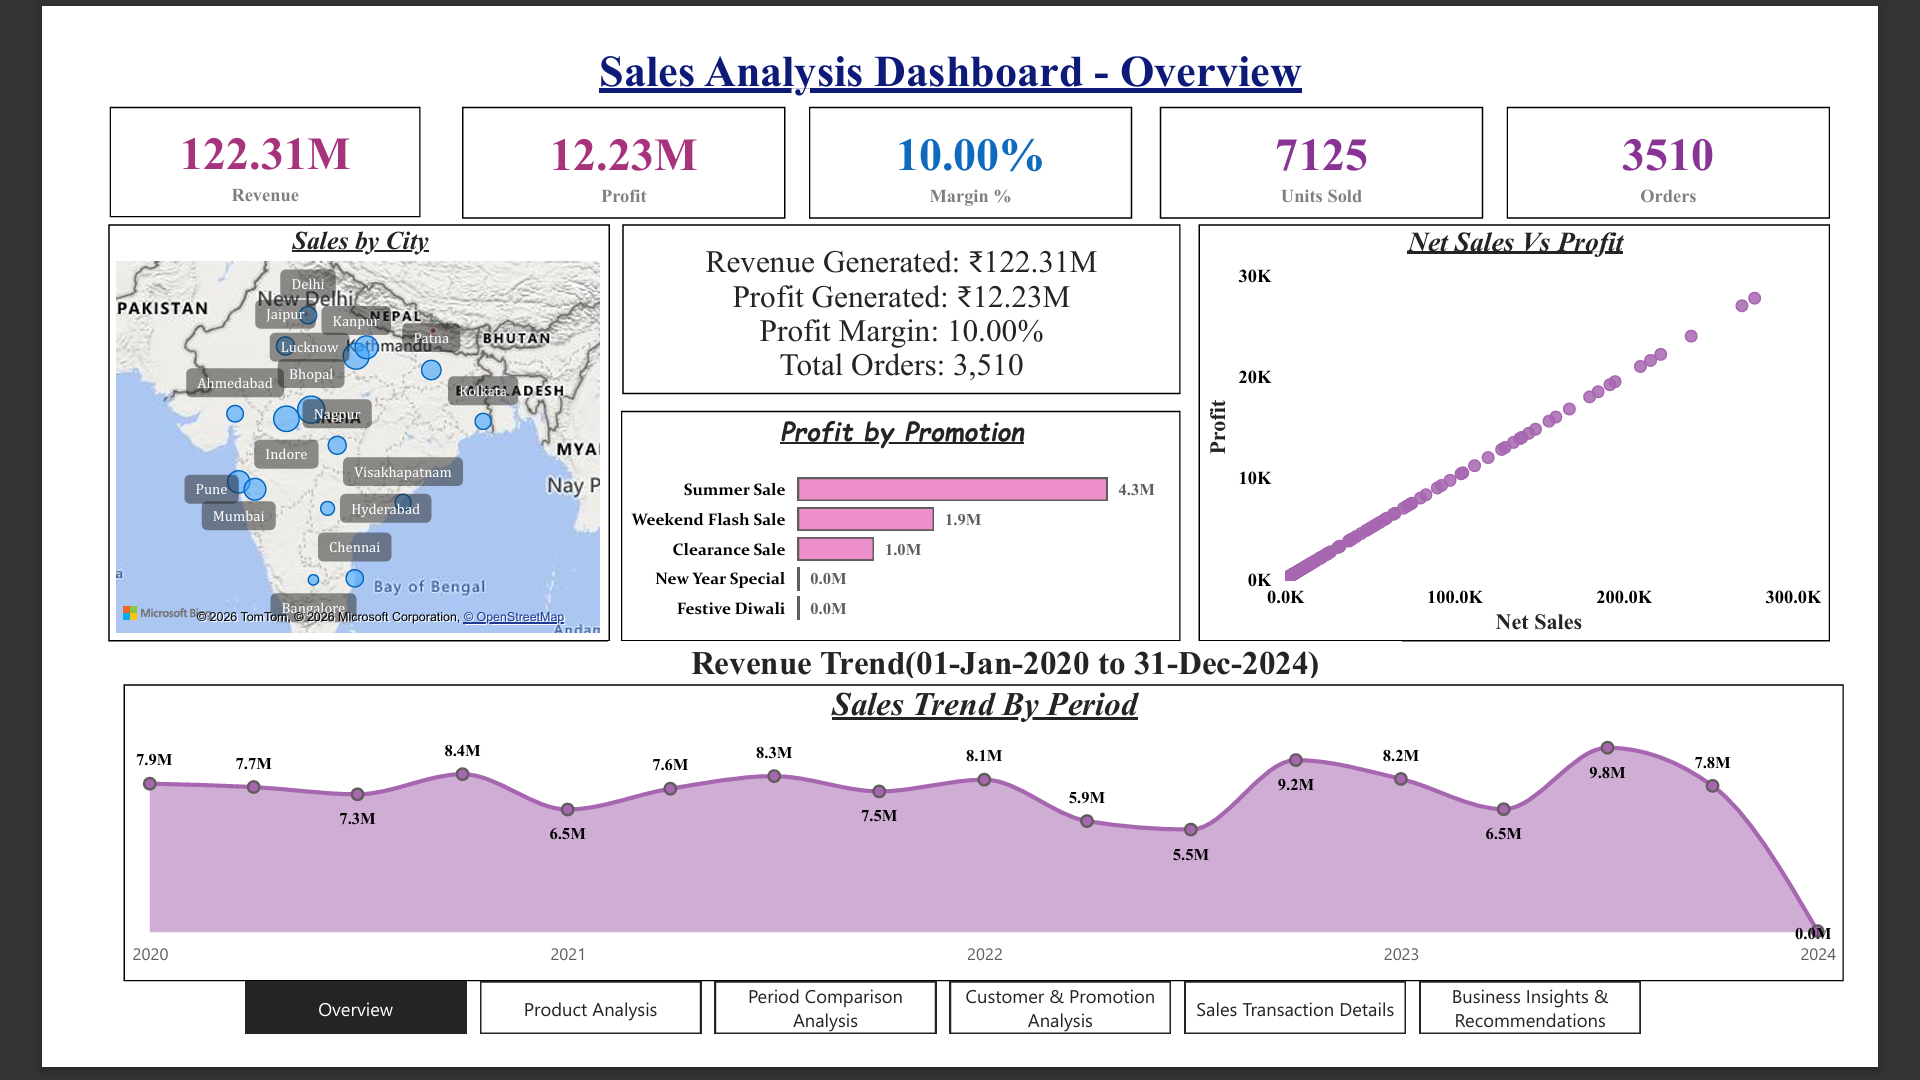

The page's visual inventory and layout, read from the dashboard file:
{"tool":"powerbi","page":{"name":"Overview","canvas":[1280,720],"ordinal":0},"visuals":[{"type":"lineChart","title":"Sales Trend By Period","fields":{"Category":["Primary Calendar.Date.Variation.Date Hierarchy.Year","Primary Calendar.Date.Variation.Date Hierarchy.Quarter","Primary Calendar.Date.Variation.Date Hierarchy.Month","Primary Calendar.Date.Variation.Date Hierarchy.Day"],"Y":["KPI Measures.Revenue"]},"box":[35,466.7,1245,215],"z":0},{"type":"scatterChart","title":"Net Sales Vs Profit","fields":{"X":["Sum(Fact Table.Net Sales  )"],"Y":["Fact Table.Profit"]},"box":[813.3,133.9,456.9,301.9],"z":1000},{"type":"barChart","title":"Profit by Promotion ","fields":{"Category":["Dim Promotion.Promotion Name"],"Y":["Sum(Fact Table.Discount Value)"]},"box":[394.6,268.9,405,166.7],"z":2000},{"type":"card","fields":{"Values":["Measure Table.Revenue"]},"box":[25,49.2,225,80],"z":3000},{"type":"map","title":"Sales by City","fields":{"Category":["Dim Customers.City"],"Size":["Sum(Fact Table.Net Sales  )"]},"box":[24.3,133.9,362.3,301.9],"z":4000},{"type":"card","fields":{"Values":["Measure Table.Orders"]},"box":[1035.7,48.7,234.6,81],"z":5000},{"type":"card","fields":{"Values":["Measure Table.Units Sold"]},"box":[784.6,48.7,234.6,81],"z":6000},{"type":"card","fields":{"Values":["Measure Table.Margin %"]},"box":[530.7,48.7,234.6,81],"z":7000},{"type":"card","fields":{"Values":["Measure Table.Profit"]},"box":[279.6,48.7,234.6,81],"z":8000},{"type":"card","fields":{"Values":["Measure Table.Executive Summary"]},"box":[396.3,133.9,403.3,123.3],"z":9000},{"type":"pageNavigator","box":[123.3,681.7,1010,38.3],"z":10000},{"type":"card","fields":{"Values":["Measure Table.Revenue Title"]},"box":[385.7,435.7,574.3,31.4],"z":11000},{"type":"textbox","box":[365,0,536.7,48.3],"z":12000}]}

Visuals, with their boxes in screenshot pixels (x1, y1, x2, y2), scaled from the page's 1280x720 canvas onto the 1920x1080 screenshot:
"Sales Trend By Period" lineChart: 52, 700, 1919, 1023
"Net Sales Vs Profit" scatterChart: 1220, 201, 1905, 654
"Profit by Promotion " barChart: 592, 403, 1199, 653
card - Measure Table.Revenue: 38, 74, 375, 194
"Sales by City" map: 36, 201, 580, 654
card - Measure Table.Orders: 1554, 73, 1905, 195
card - Measure Table.Units Sold: 1177, 73, 1529, 195
card - Measure Table.Margin %: 796, 73, 1148, 195
card - Measure Table.Profit: 419, 73, 771, 195
card - Measure Table.Executive Summary: 594, 201, 1199, 386
pageNavigator: 185, 1023, 1700, 1079
card - Measure Table.Revenue Title: 579, 654, 1440, 701
textbox: 548, 0, 1353, 72
